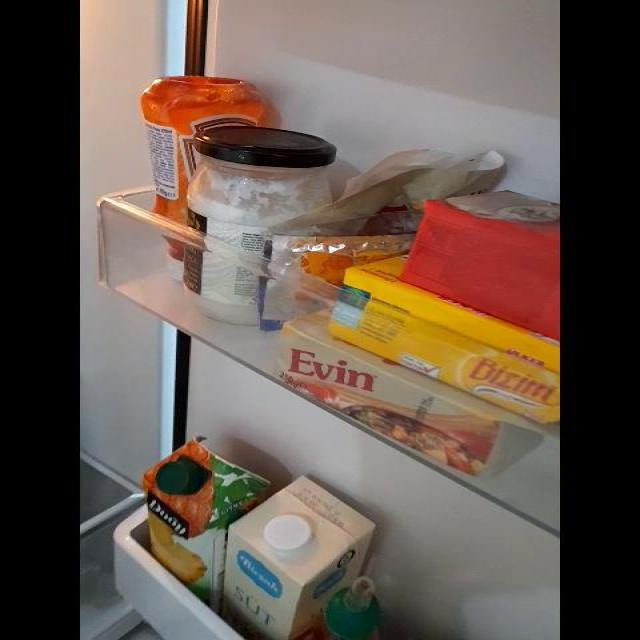butter: (295, 267, 553, 448)
juice: (143, 446, 225, 583)
milk: (224, 479, 344, 634)
sauce: (142, 75, 226, 262)
